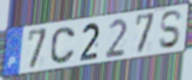2: (105, 17, 129, 61), (79, 21, 100, 63)
7: (27, 28, 49, 72), (135, 12, 156, 56)
C: (49, 26, 77, 66)
S: (157, 9, 184, 51)
